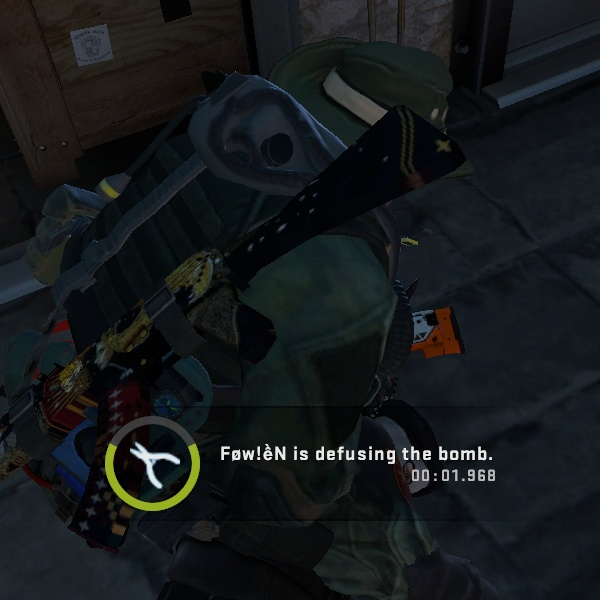ct_body: (0, 0, 562, 584)
